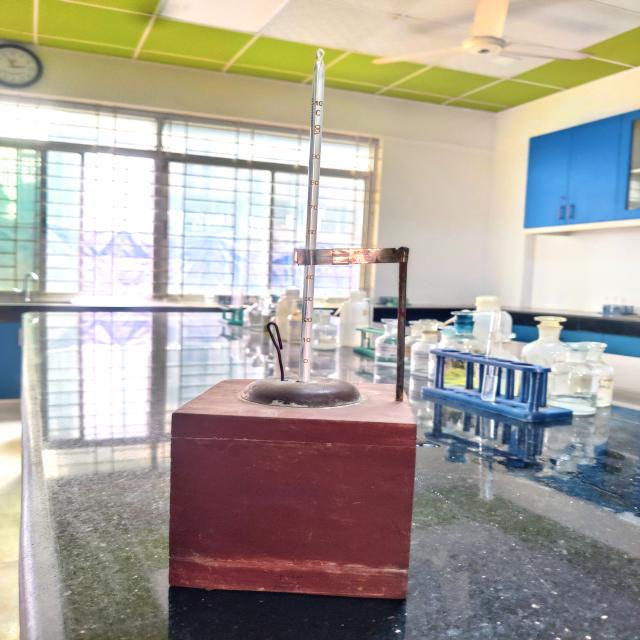Calorimeter: (137, 19, 480, 635)
